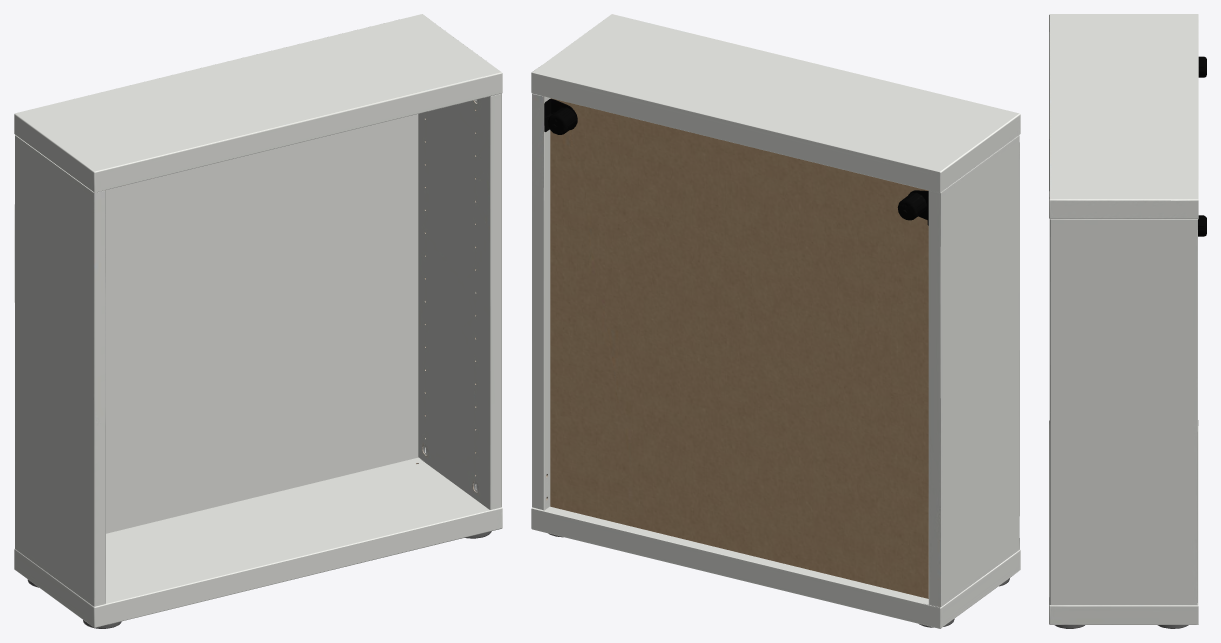
File: besta_obudowa_60245919.glb
3 views of the same model, side by side, from view 1: azimuth 30°, elevation 25°; view 2: azimuth 150°, elevation 25°; view 3: azimuth 270°, elevation 25° (orthographic). The views are drawn at different scales.
Visible parts, largest first — view 1: besta_obudowa_60245919; view 2: besta_obudowa_60245919; view 3: besta_obudowa_60245919.
Part boxes in pixels (x1=…): besta_obudowa_60245919: x1=14, y1=14, x2=502, y2=628; besta_obudowa_60245919: x1=531, y1=14, x2=1020, y2=628; besta_obudowa_60245919: x1=1049, y1=14, x2=1206, y2=628.
Bounding box in the file's own units: 0.6 × 0.6481 × 0.2151.
1 material, 1 textured.
